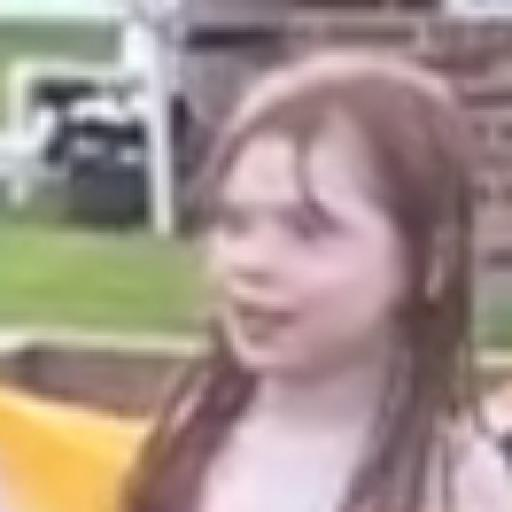Autism: (173, 60, 512, 476)
